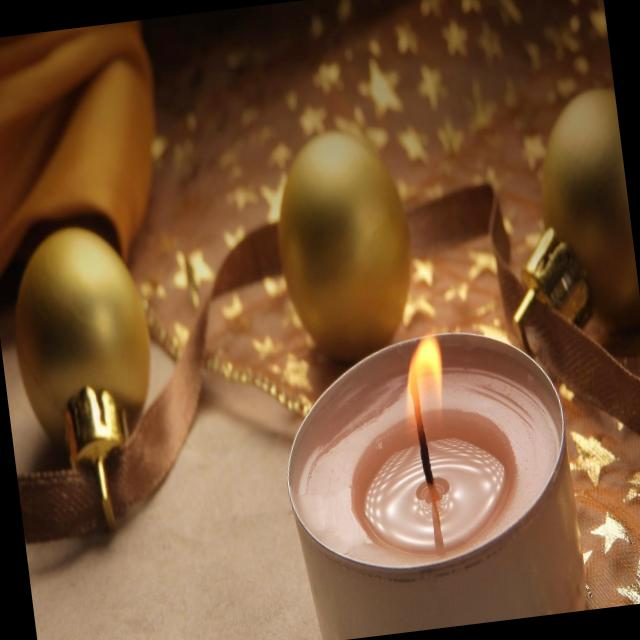Fire_Save: (270, 316, 589, 640)
